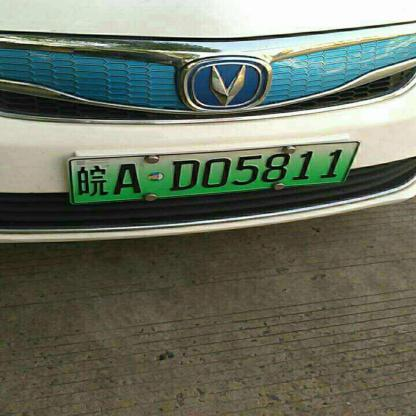lp: (71, 140, 358, 204)
